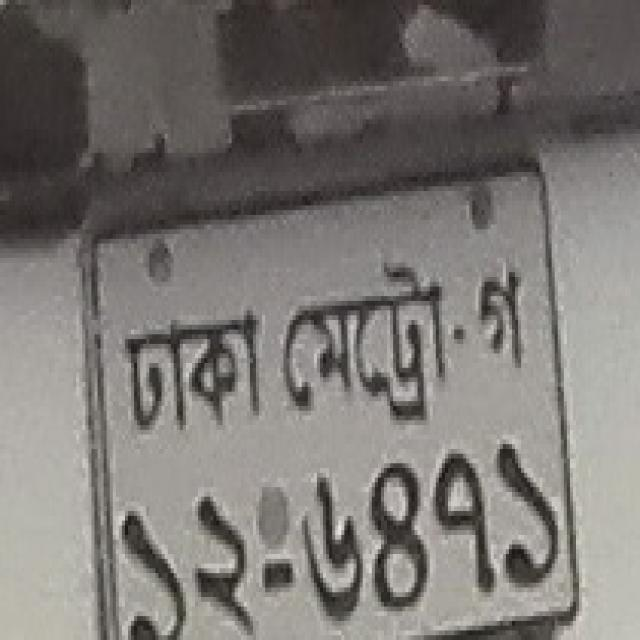cng: (282, 262, 445, 423)
numberplate: (80, 154, 579, 637)
